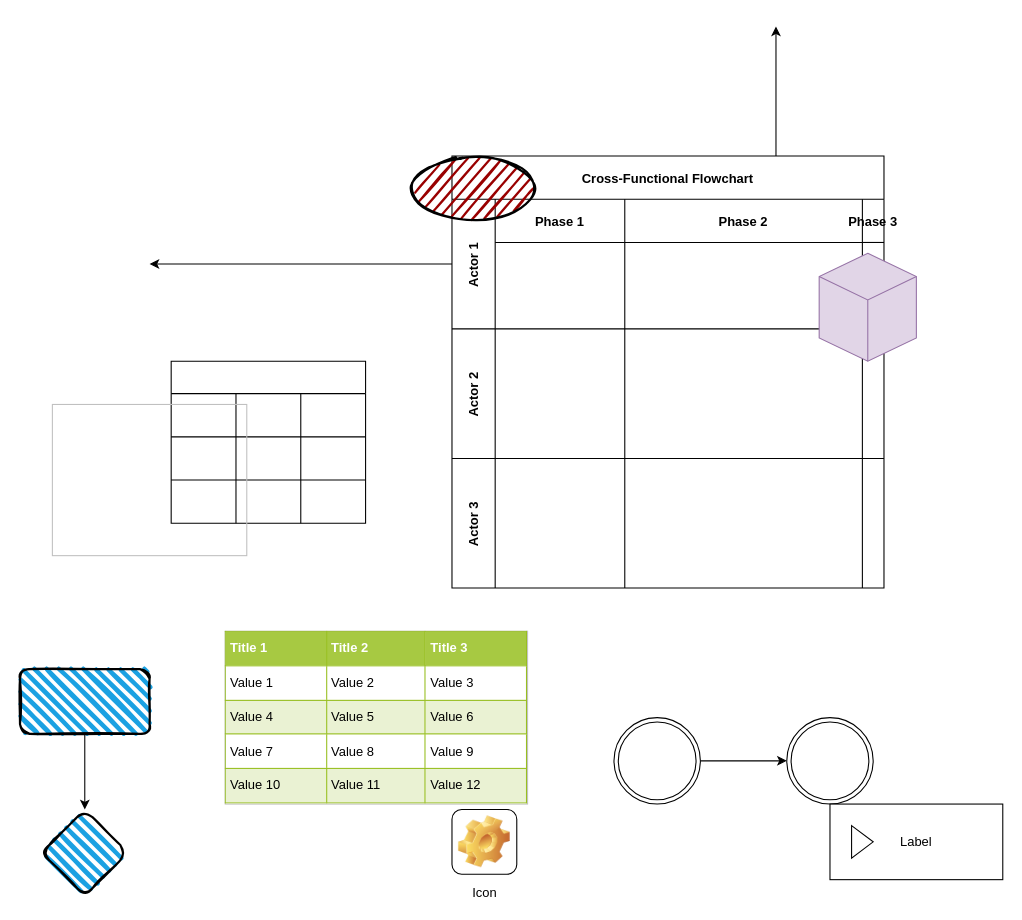
Some shapes in this 1022 by 920 pixel diagram are drawn without their labels. Each missing label, with the centre of its shape:
Table: the point at 268,441
Value 1 Value 2 Value 3 Value 4 Value 5 Value 6 Value 7 Value 8 Value 9: the point at 149,479
